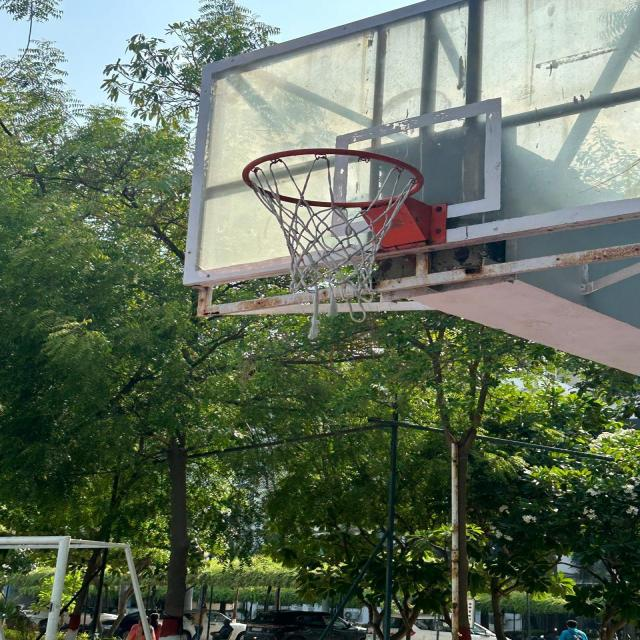hoop: (243, 139, 446, 337)
